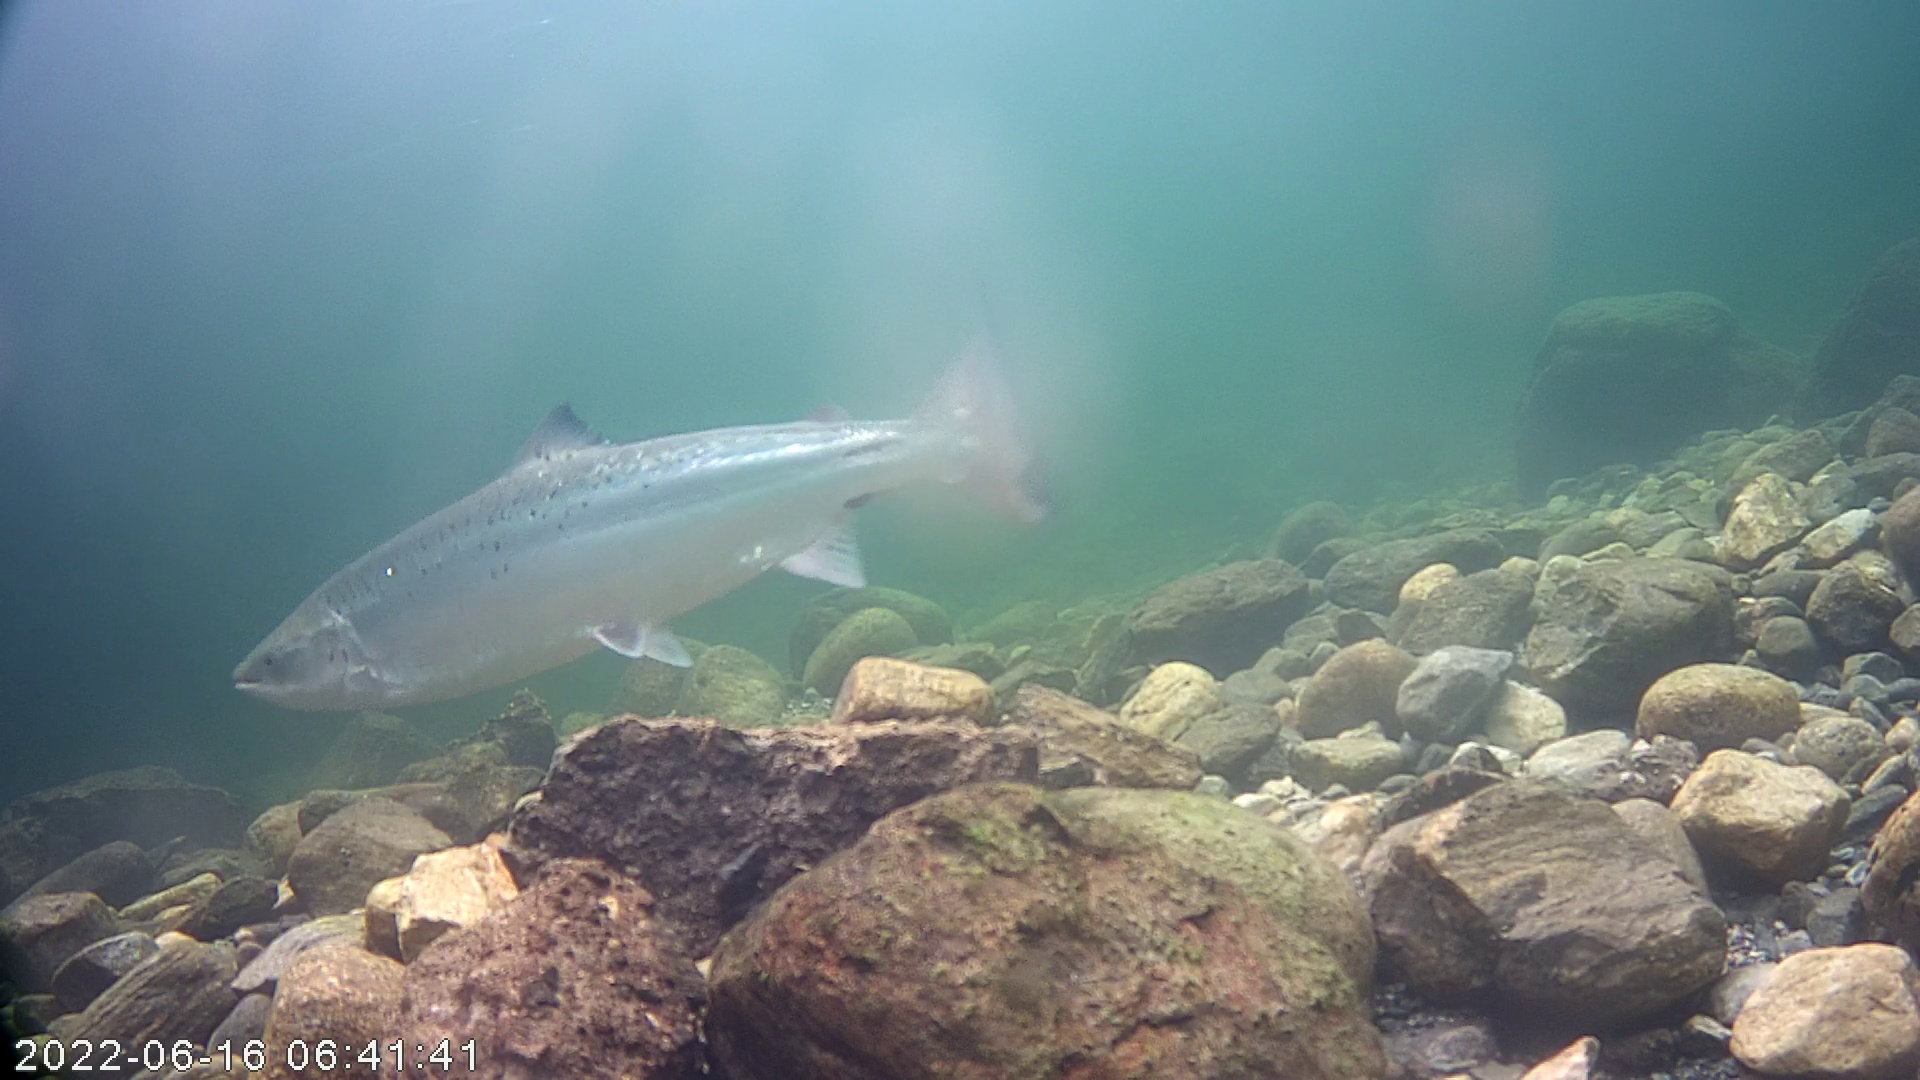salmon: (228, 309, 1064, 716)
